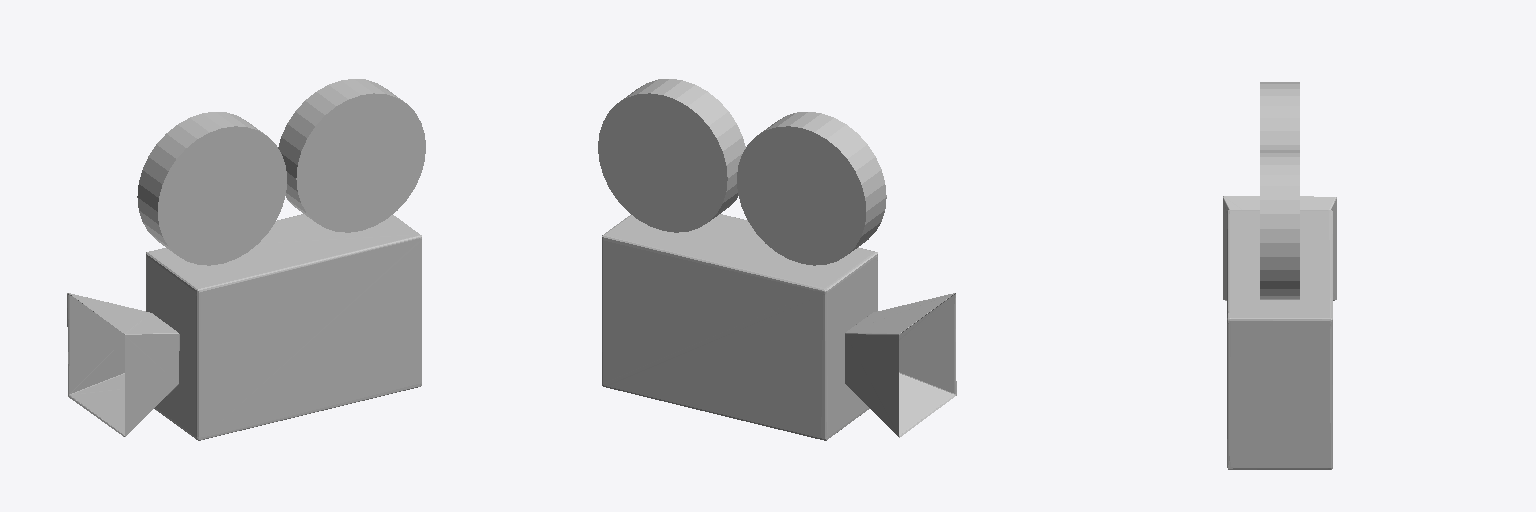
The model's file is Camera.obj.
3 renders of one model, left to right at view 1: azimuth 30°, elevation 25°; view 2: azimuth 150°, elevation 25°; view 3: azimuth 270°, elevation 25°, orthographic.
Parts seen in each view (by area): view 1: Body_Cube, Spool1_Cylinder.001, Spool2_Cylinder.002, Hood_Cube.002; view 2: Body_Cube, Spool1_Cylinder.001, Spool2_Cylinder.002, Hood_Cube.002; view 3: Body_Cube, Spool2_Cylinder.002, Spool1_Cylinder.001, Hood_Cube.002.
Boxes of the visible parts, box(x1,y1,x2,y2) form: Body_Cube: box(146, 214, 421, 440); Spool1_Cylinder.001: box(137, 112, 286, 265); Spool2_Cylinder.002: box(278, 79, 425, 232); Hood_Cube.002: box(67, 293, 179, 436); Body_Cube: box(602, 214, 877, 440); Spool1_Cylinder.001: box(737, 112, 886, 265); Spool2_Cylinder.002: box(598, 79, 745, 232); Hood_Cube.002: box(845, 293, 956, 437); Body_Cube: box(1227, 210, 1332, 469); Spool2_Cylinder.002: box(1260, 150, 1299, 299); Spool1_Cylinder.001: box(1260, 82, 1299, 149); Hood_Cube.002: box(1223, 196, 1336, 300).
Size of the model in its own units: 3.53 by 3.08 by 1.1.